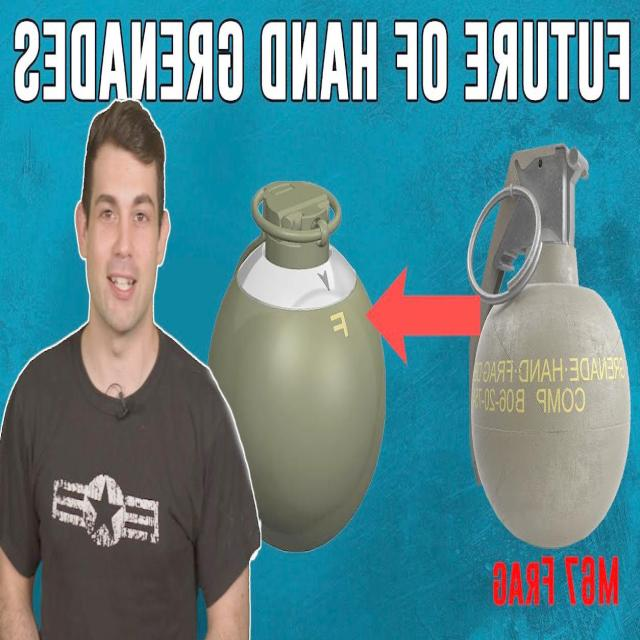grenade: (209, 184, 387, 558), (471, 146, 633, 550)
